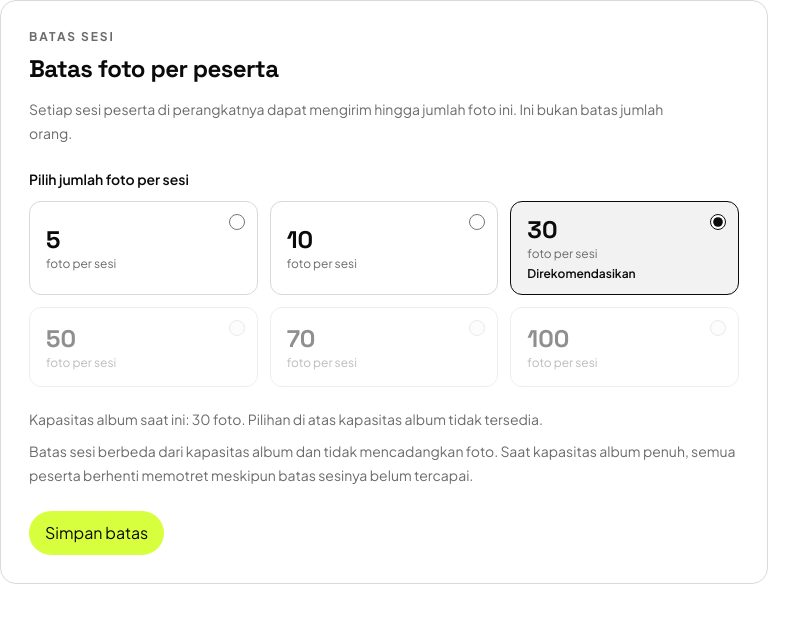
Test case: FE-3 Host album surfaces › shows a recoverable settings error for PATCH 409
Expected: the radio button labelled "30 foto per sesi Direkomendasikan" is shown, [710,214,726,230]
Click the radio button labelled "5 foto per sesi".
click(237, 222)  # box [229,214,245,230]
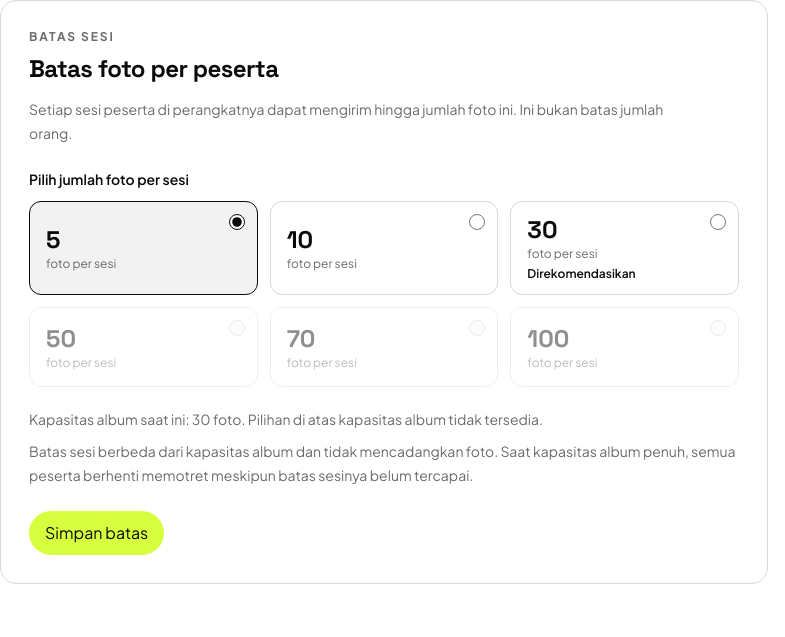
Click the button "Simpan batas".
click(97, 533)  # box [29,511,164,555]
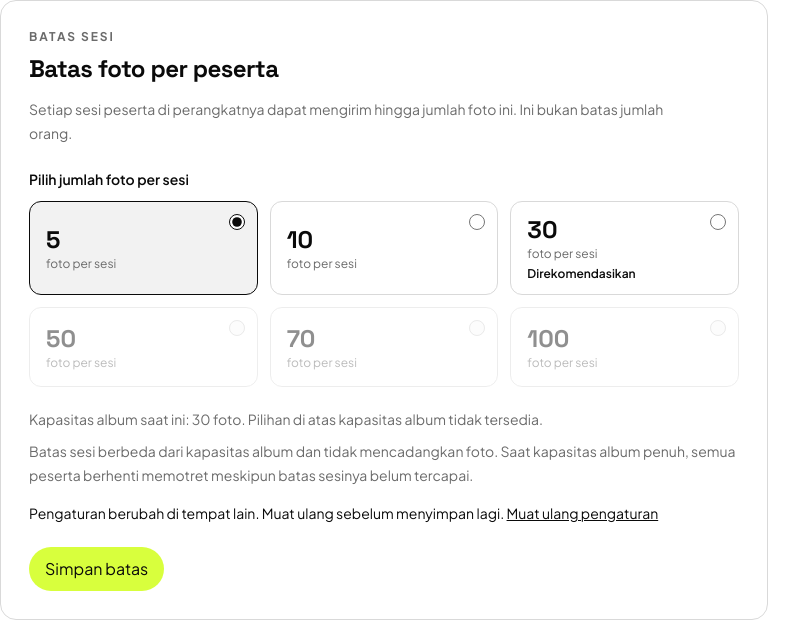
Expected: the message is shown, [29,503,739,523]
Expected: the button "Muat ulang pengaturan" is shown, [507,503,658,523]
